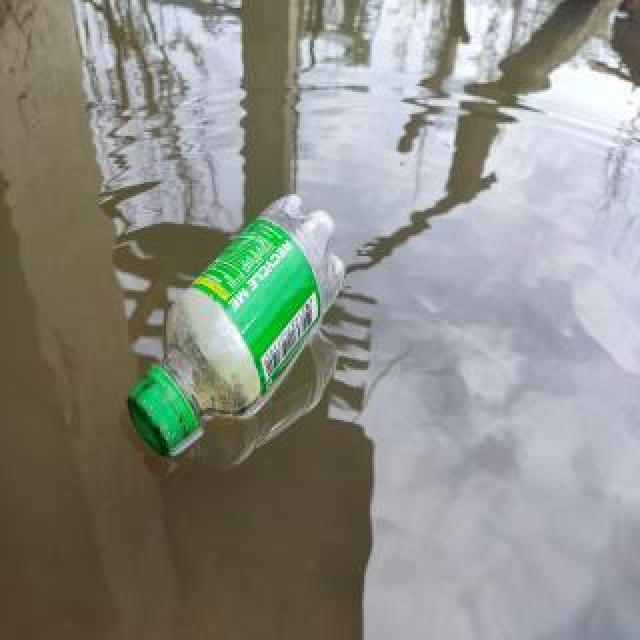bottle: (124, 190, 348, 460)
